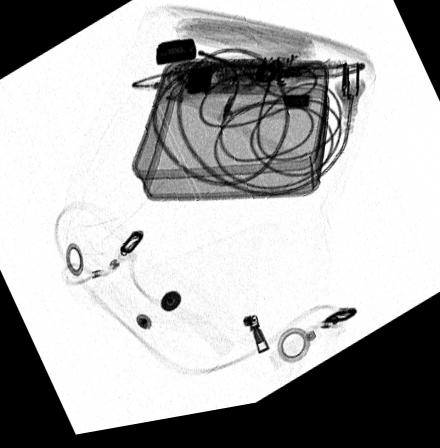Lighter: (155, 44, 197, 71)
